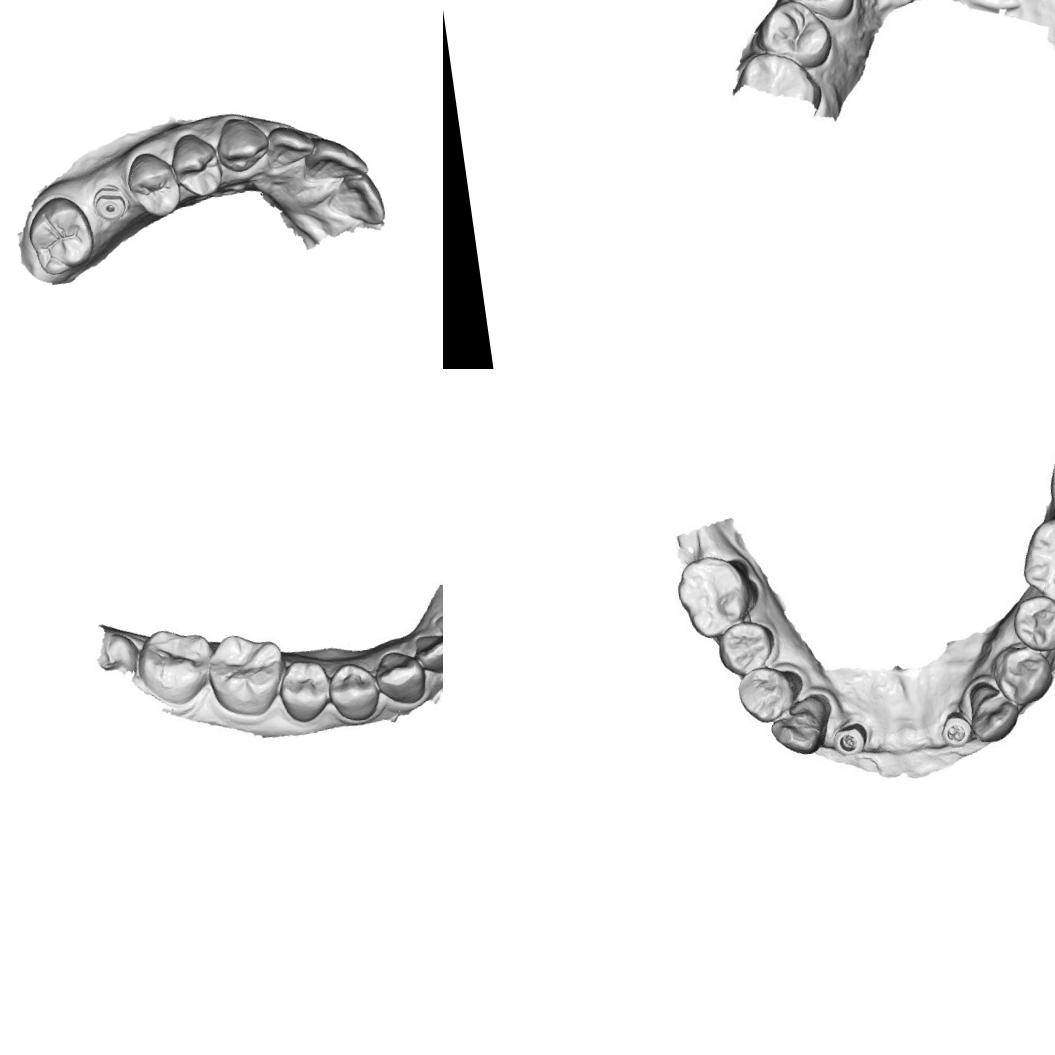canine: (214, 108, 278, 180), (767, 698, 836, 764), (964, 677, 1024, 743), (371, 645, 428, 708)
implant: (85, 175, 142, 233), (939, 714, 977, 750), (834, 724, 870, 756)
incisor: (326, 169, 387, 233), (256, 112, 316, 174), (308, 127, 367, 190), (412, 629, 443, 677), (432, 601, 443, 650)
molar: (200, 628, 288, 722), (134, 622, 218, 711), (672, 552, 756, 638), (20, 190, 99, 280), (1015, 511, 1055, 612)
premolar: (750, 0, 834, 74), (122, 145, 187, 225), (164, 129, 229, 205), (711, 616, 780, 681), (273, 657, 337, 724), (324, 658, 385, 723), (732, 659, 792, 725), (992, 638, 1055, 699), (1011, 590, 1055, 652), (783, 0, 860, 28)
